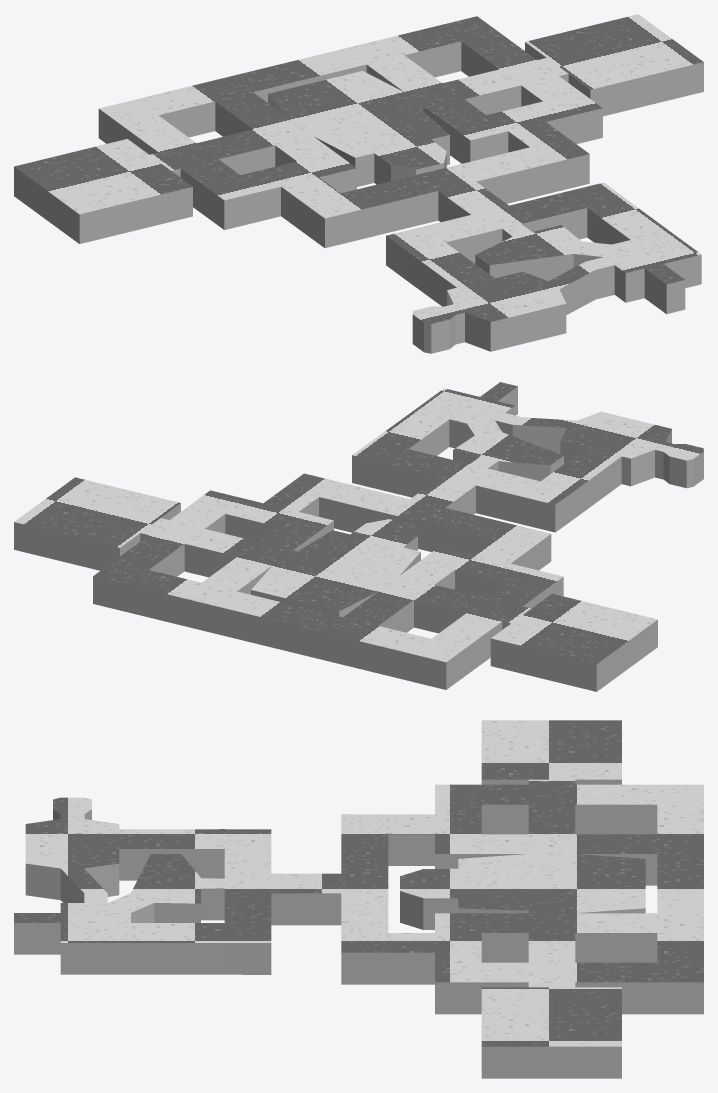
File: TestLIghtmapLevel.fbx
3 renders of one model, top to bottom at view 1: azimuth 30°, elevation 25°; view 2: azimuth 150°, elevation 25°; view 3: azimuth 270°, elevation 25°, orthographic. The views are drawn at different scales.
Parts seen in each view (by area): view 1: Plane; view 2: Plane; view 3: Plane.
Part boxes in pixels (x1,y1,x2,y2): Plane: (14,14,703,353); Plane: (14,382,703,691); Plane: (14,720,703,1078).
Size of the model in its own units: 6600 by 300 by 5900.
